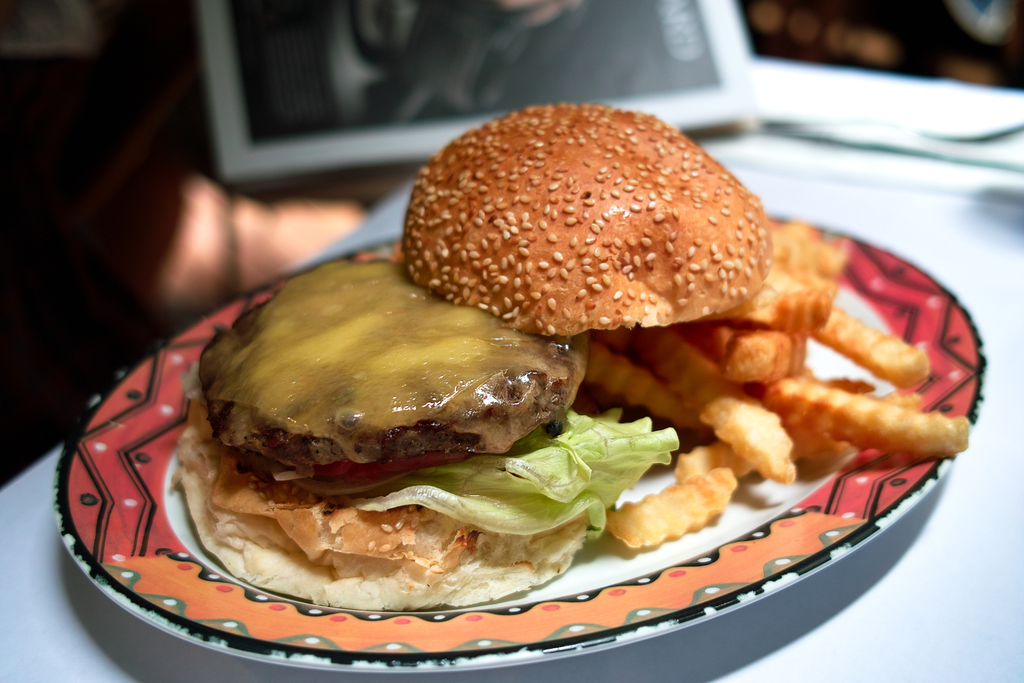French fries: (574, 212, 977, 549)
